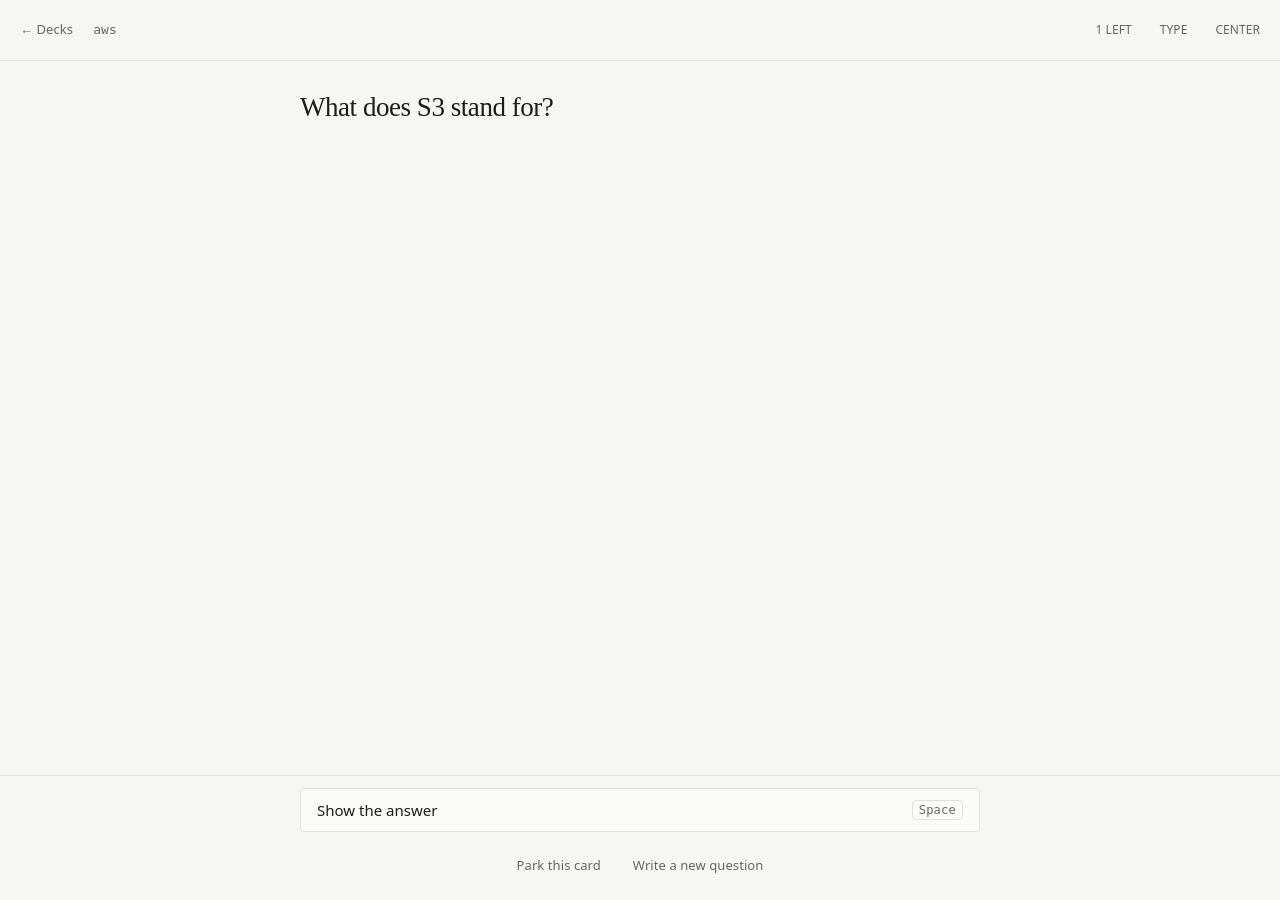
Test: ReviewSession typing › asks for the answer in writing once typing is on
Expected: the field with class "cm-content" is shown, x1=300 y1=92 x2=553 y2=122
Click the button "Type": click(1174, 30) x1=1152 y1=8 x2=1195 y2=52
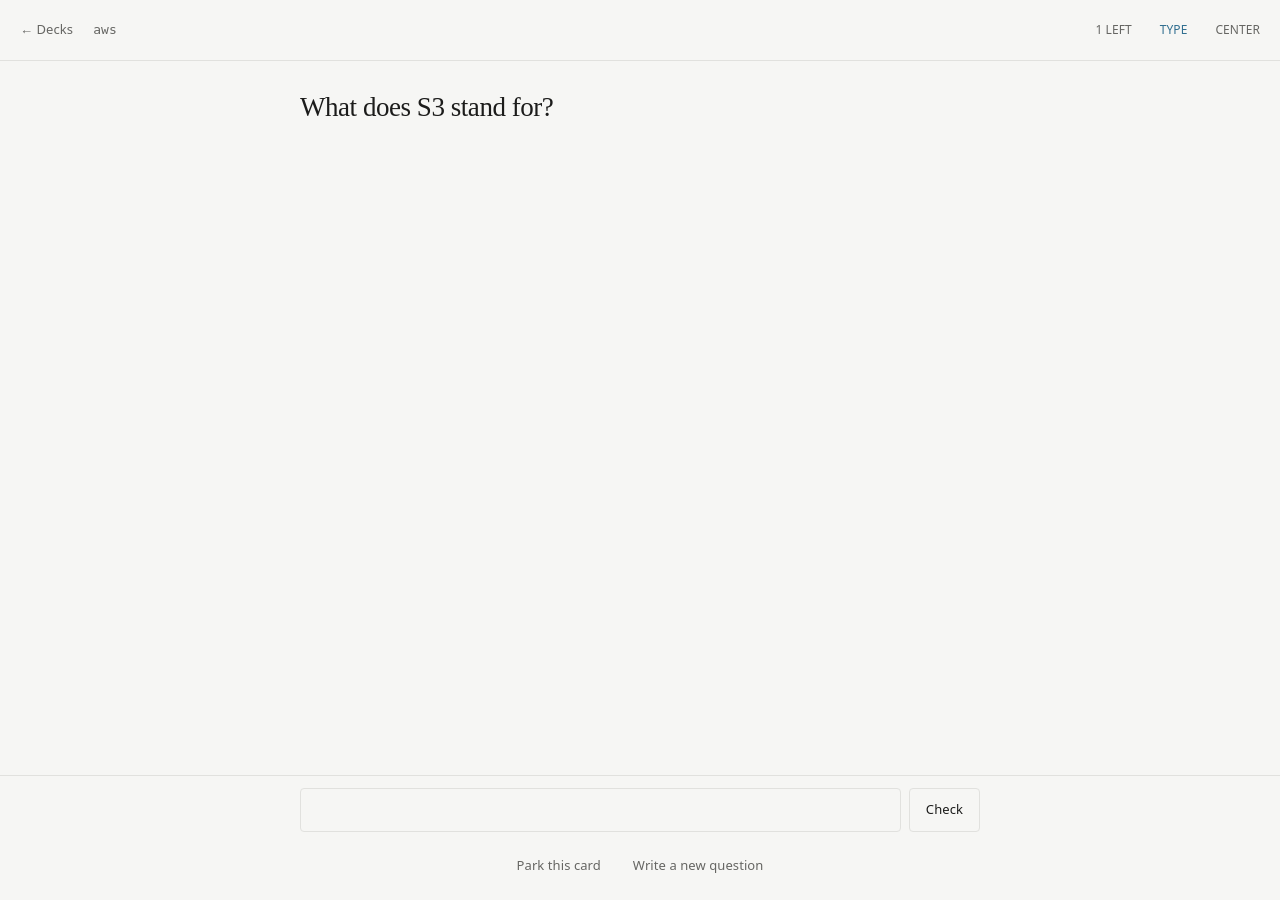
Expected: the button "Show the answer" is gone
